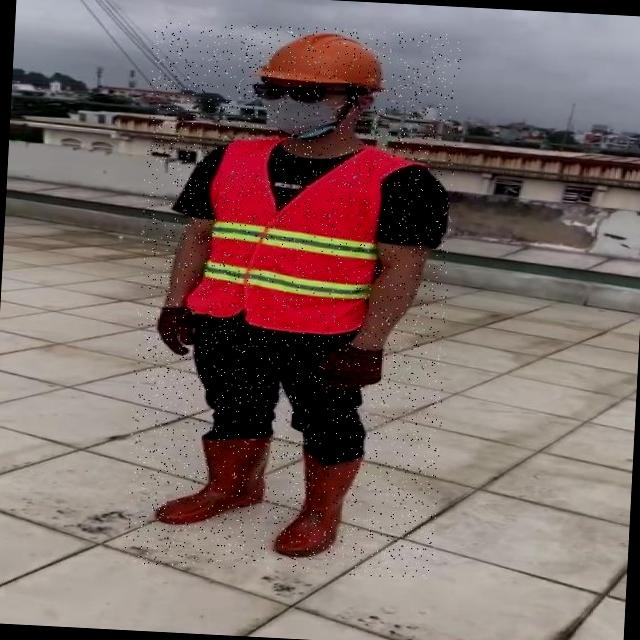boots: (153, 430, 270, 530), (272, 447, 366, 562)
helmet: (256, 27, 394, 92)
vest: (185, 140, 388, 337)
